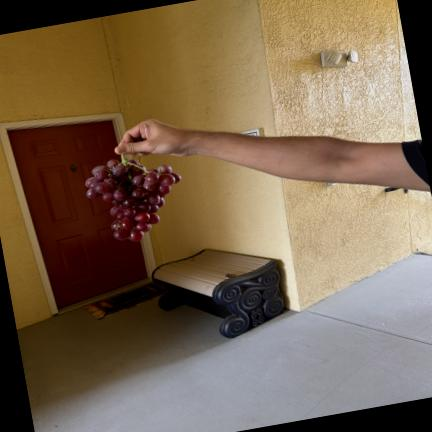grape_cluster: (85, 154, 182, 242)
